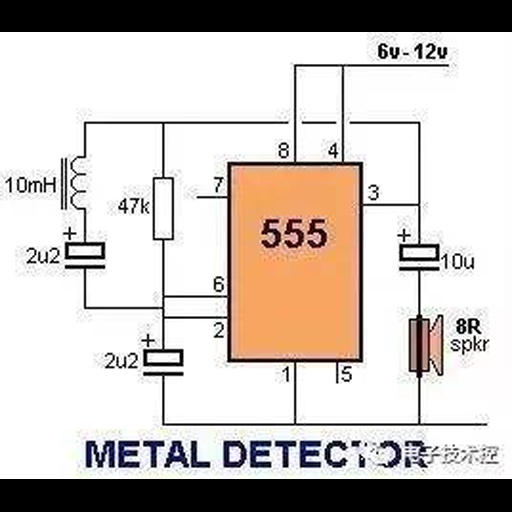firstresistance: (149, 174, 178, 242)
inductor: (68, 148, 89, 212)
loudspeaker: (403, 311, 449, 382)
secondpolarcapacitor: (141, 332, 189, 384), (62, 224, 110, 275), (391, 229, 442, 273)
